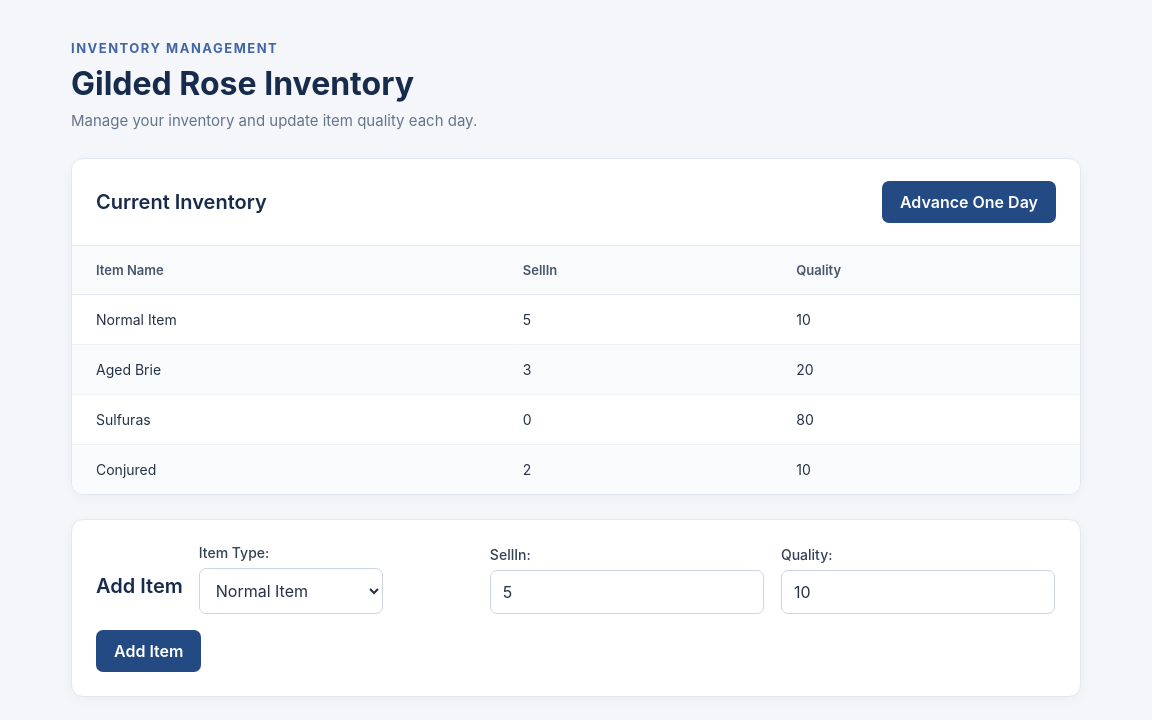
Test: updates inventory when "Advance One Day" button is clicked
Click the button "Advance One Day".
click(969, 202)  # box [882,181,1056,223]
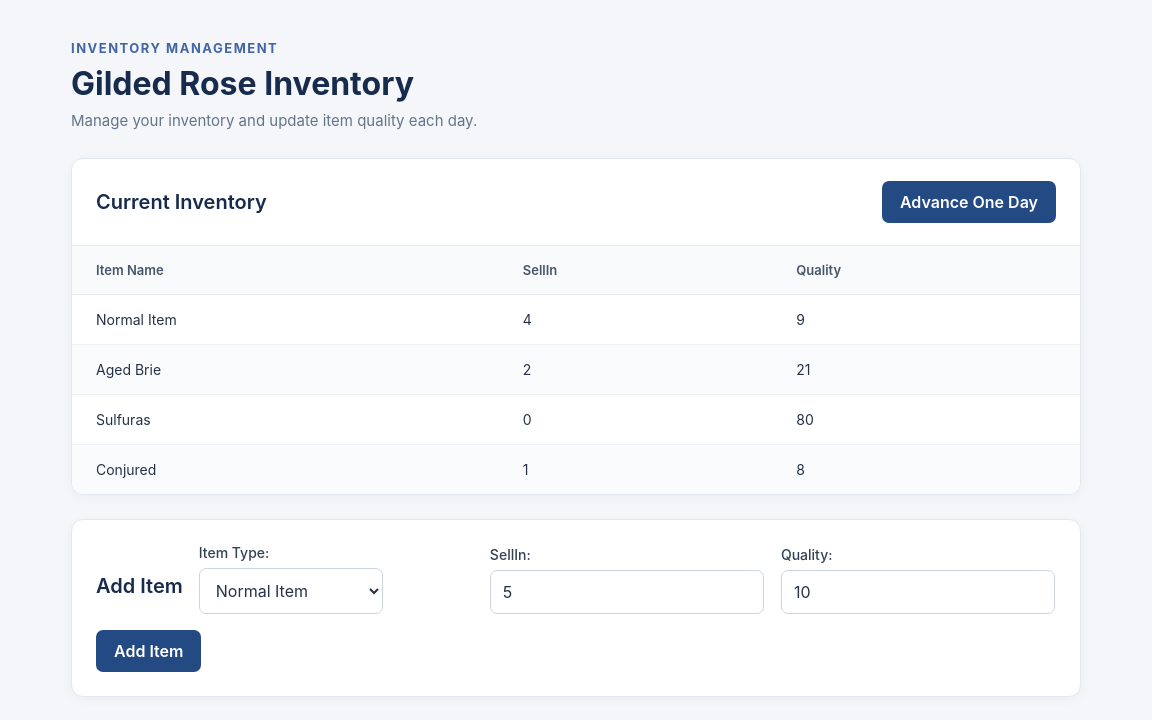
Now the text "9" is shown, box [772,294,1080,344]
Now the text "4" is shown, box [499,294,772,344]
